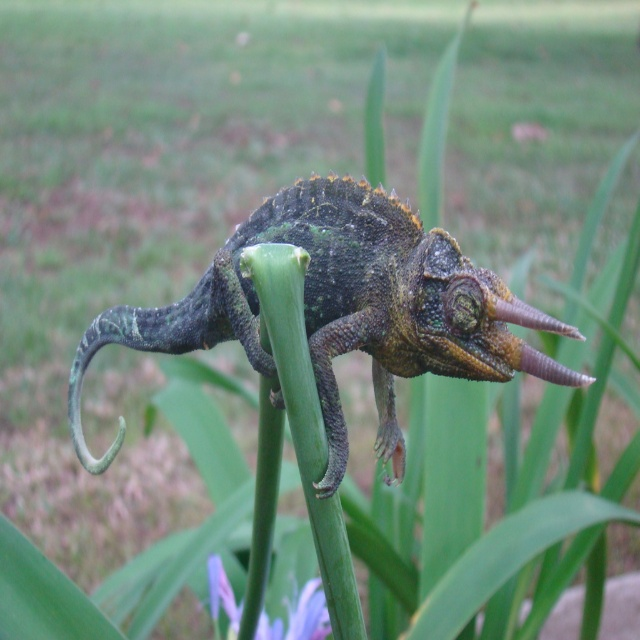Lizard: (63, 167, 592, 498)
